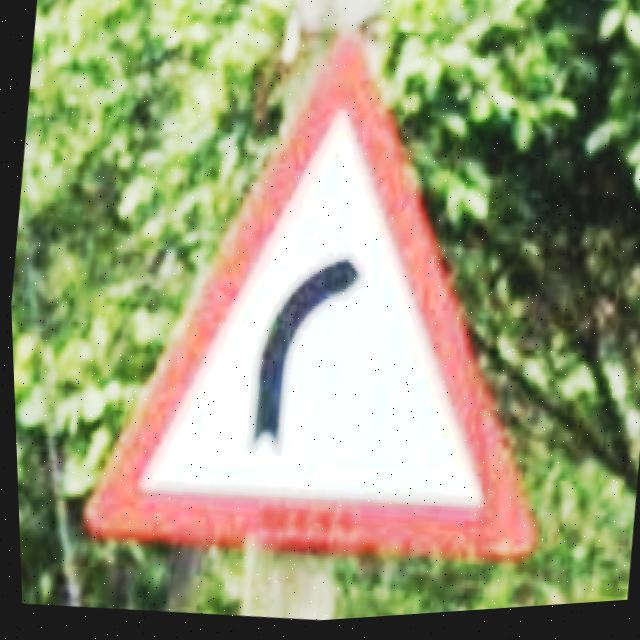rightbend: (83, 34, 529, 561)
